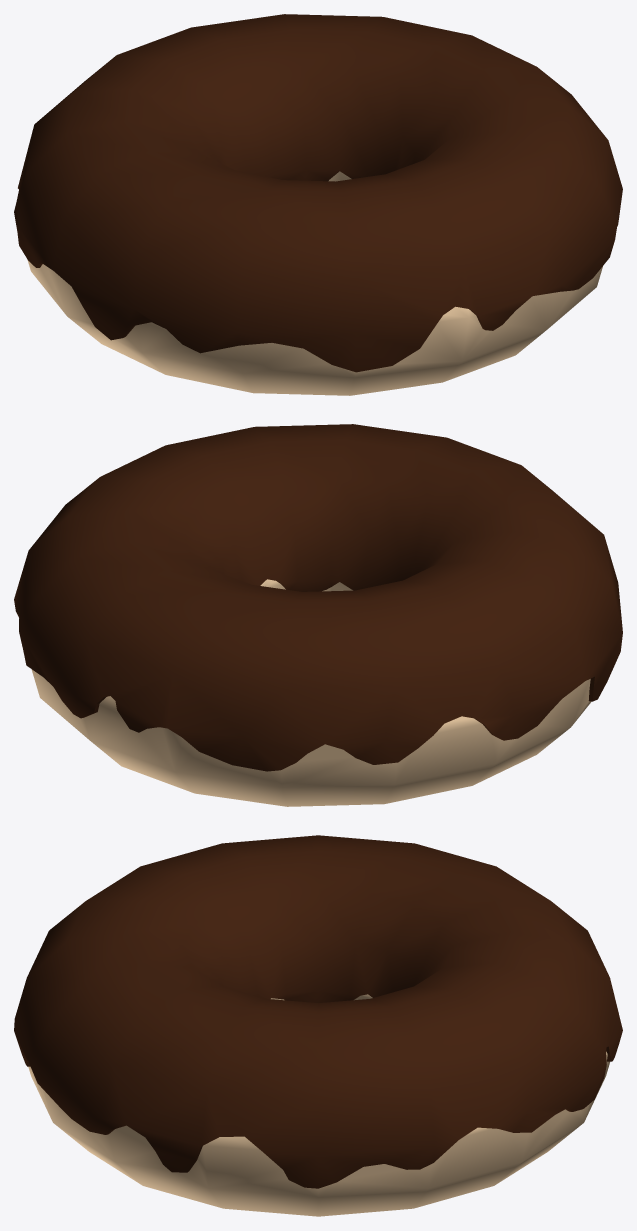
File: chocolate_donut.glb
The picture shows the model from 3 angles, top to bottom: view 1: azimuth 30°, elevation 25°; view 2: azimuth 150°, elevation 25°; view 3: azimuth 270°, elevation 25°; orthographic projection.
Parts seen in each view (by area): view 1: Glaze, Donut; view 2: Glaze, Donut; view 3: Glaze, Donut.
Boxes of the visible parts, x1,y1,x2,y2 form: Glaze: [14, 14, 622, 372]; Donut: [27, 171, 602, 395]; Glaze: [14, 424, 622, 771]; Donut: [31, 579, 591, 806]; Glaze: [14, 835, 622, 1188]; Donut: [28, 994, 609, 1216].
Bounding box in the file's own units: 3.13 × 1.09 × 3.13.
2 materials, 2 textured.
